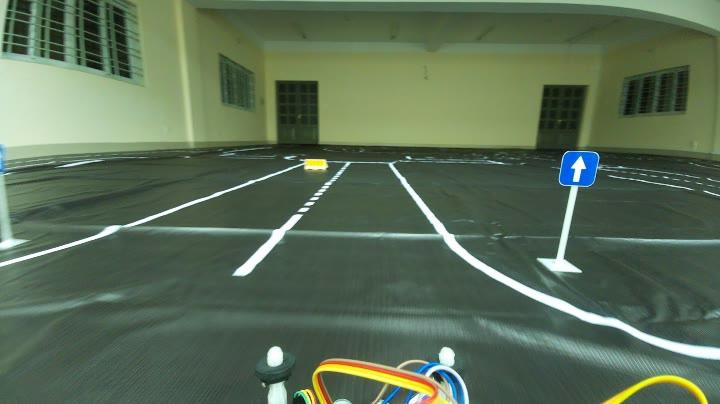onewayroad: (560, 149, 598, 185)
roadblock: (304, 154, 328, 172)
